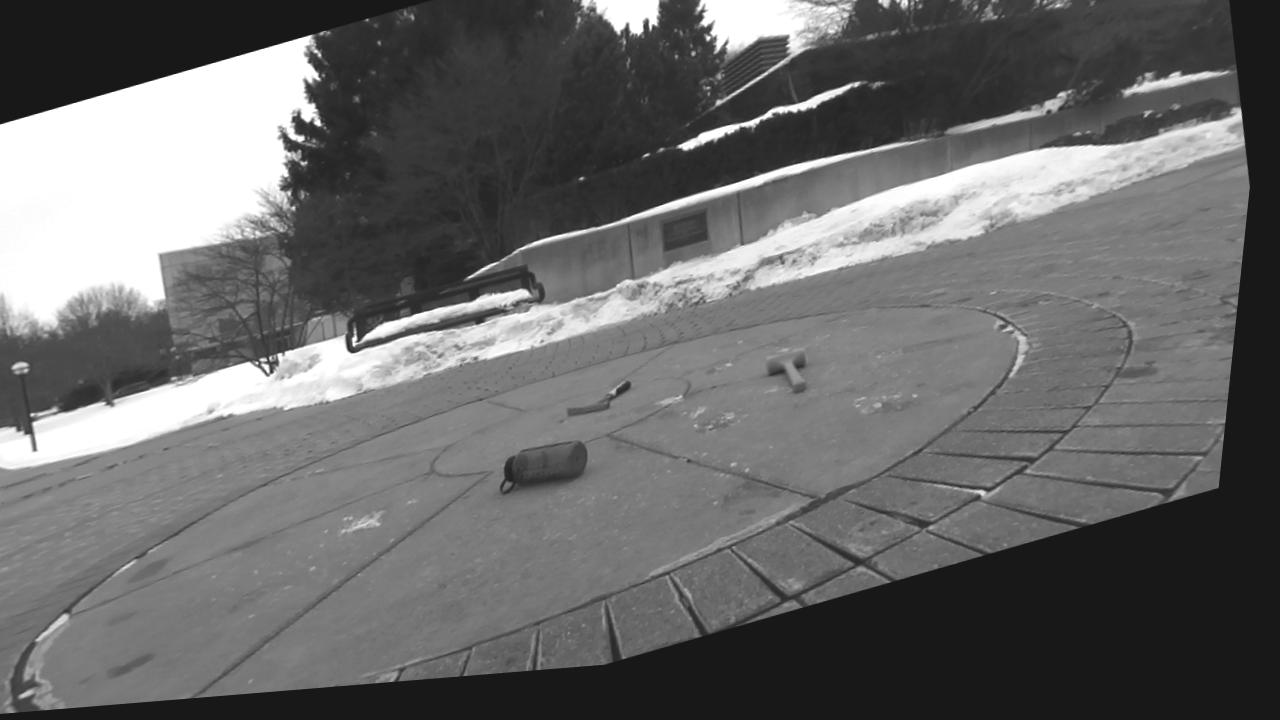bottle: (501, 441, 587, 493)
mallet: (766, 349, 806, 390)
pick: (567, 381, 629, 416)
